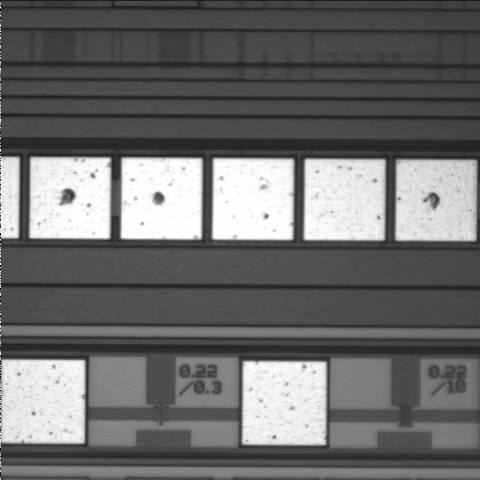pad: (242, 361, 326, 445), (212, 158, 294, 240), (30, 157, 111, 239), (121, 158, 202, 239), (304, 159, 385, 240), (396, 160, 476, 241)
